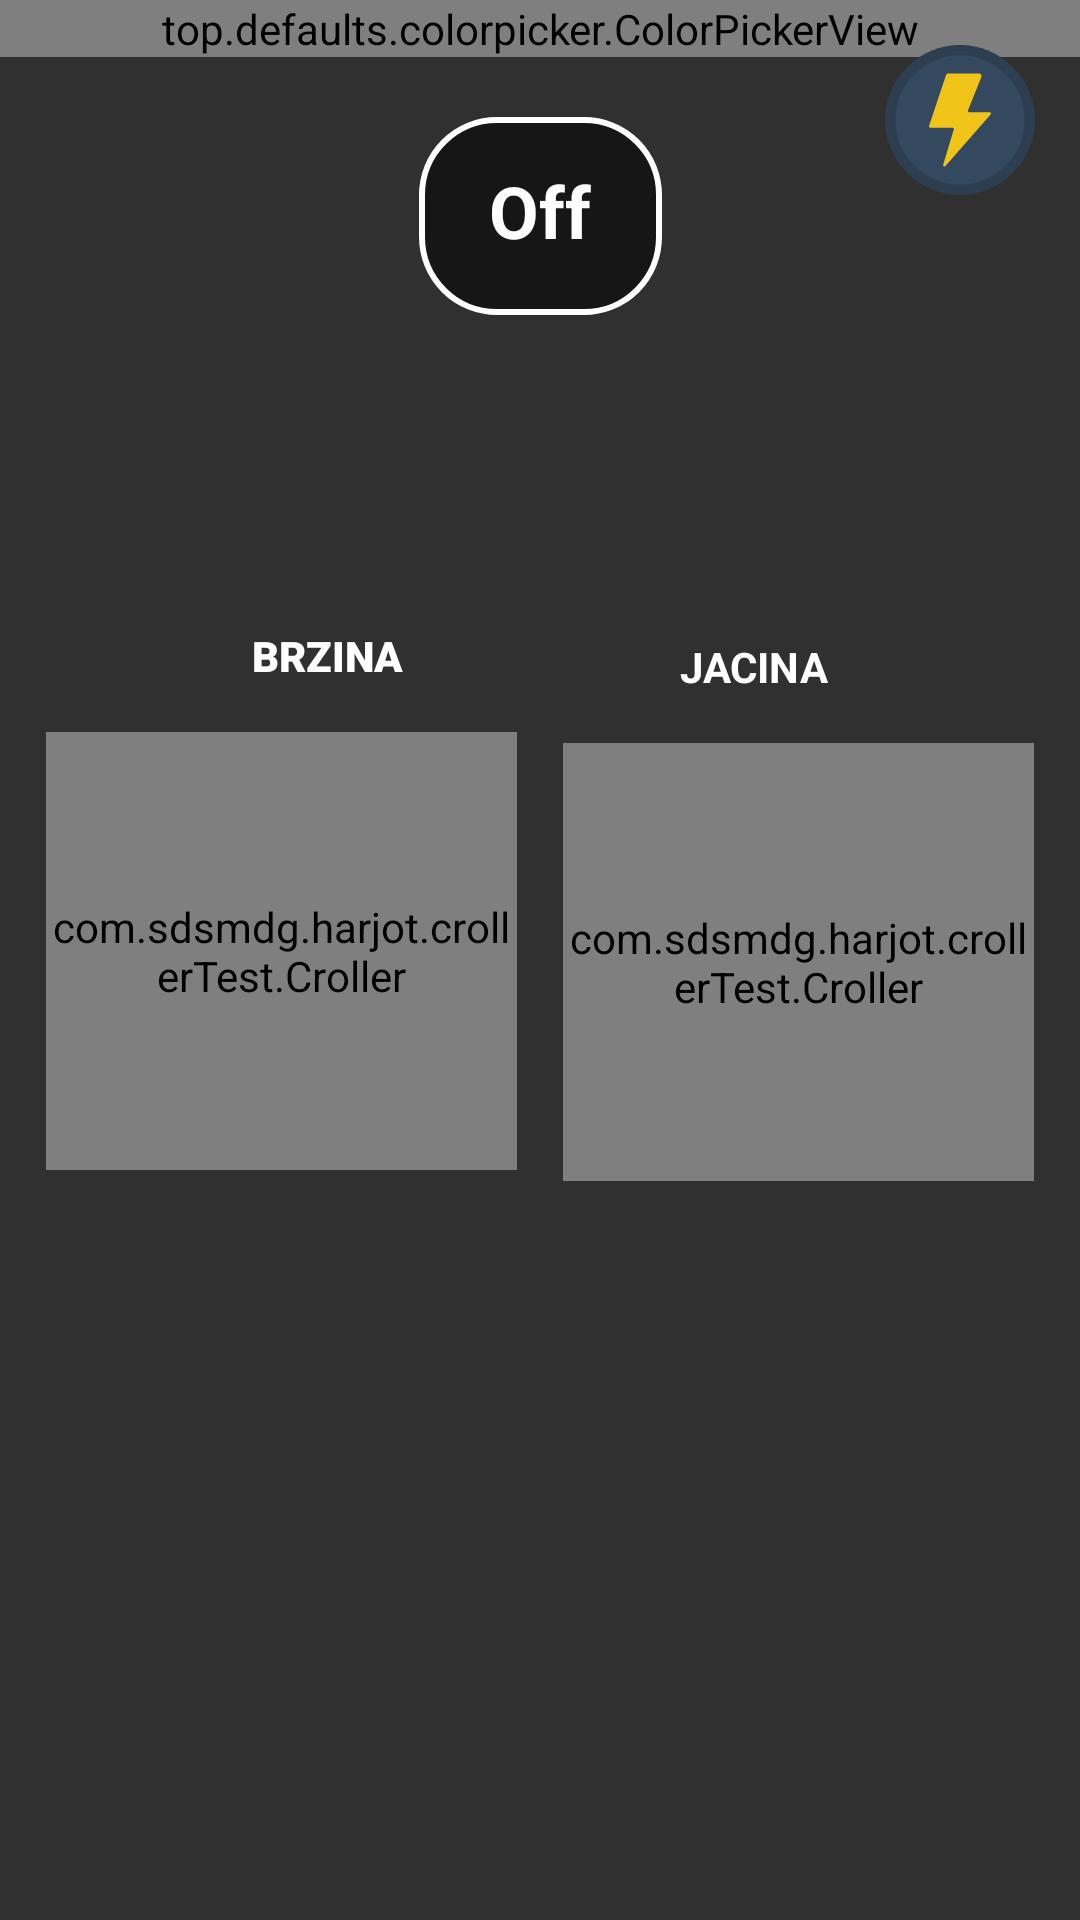

Locate icon controls on the screen. Image size 1080x1920, boxes as (x1, y1, x2, y2).
flash: (885, 45, 1035, 195)
